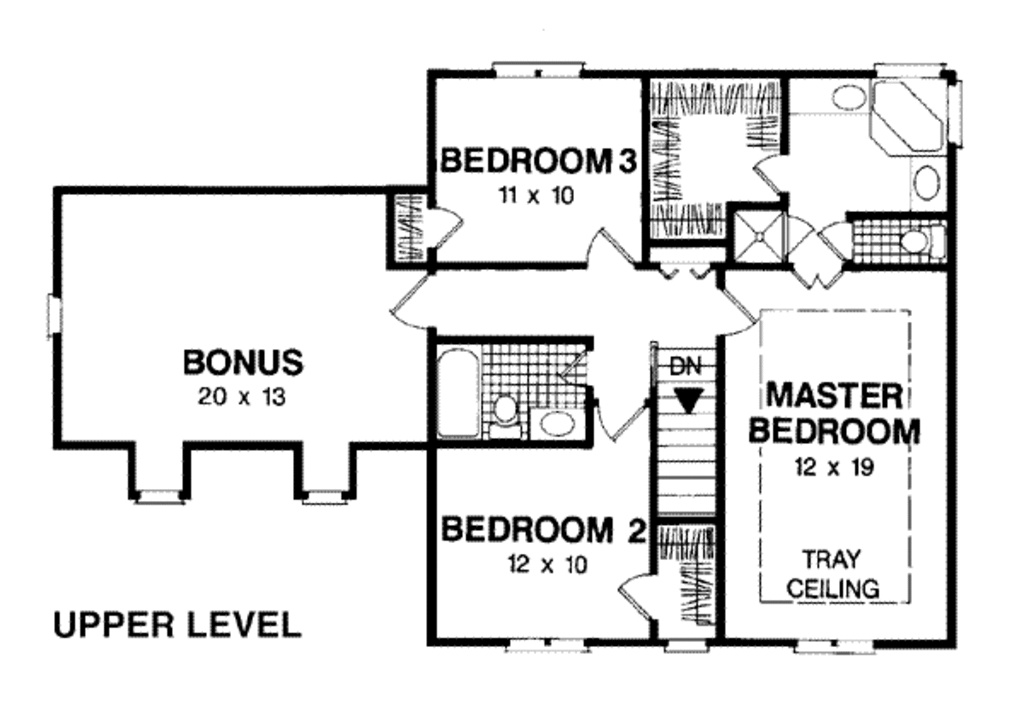door: (385, 270, 437, 329), (591, 395, 642, 441), (585, 224, 632, 270), (718, 286, 758, 340), (617, 570, 656, 620), (794, 255, 840, 293), (780, 210, 815, 258), (819, 214, 856, 255), (752, 152, 785, 194)
large_sink: (894, 224, 952, 267), (486, 392, 522, 449)
small_sink: (785, 77, 871, 120), (531, 405, 593, 446), (912, 155, 947, 209)
stairs: (649, 341, 727, 517)
tub: (868, 74, 954, 161), (431, 343, 484, 447)
windows: (484, 55, 586, 82), (794, 633, 878, 659), (503, 633, 588, 656), (43, 292, 65, 342), (298, 491, 354, 508), (130, 488, 182, 505), (662, 638, 711, 655)
